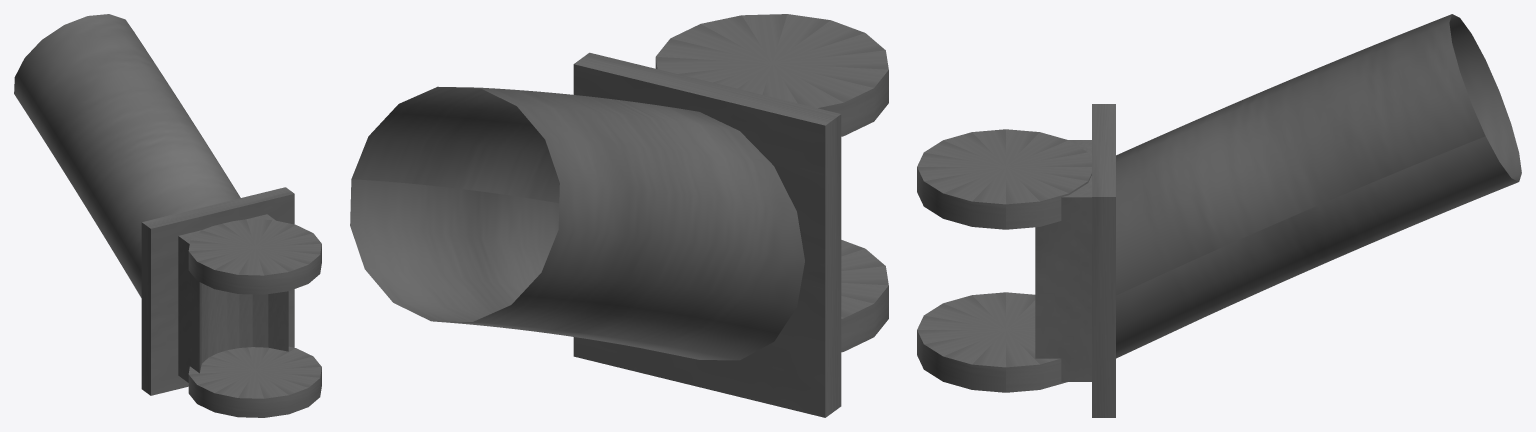
File: mastarmcurve_8x2_c0_thin.obj
3 views of the same model, side by side, from view 1: azimuth 30°, elevation 25°; view 2: azimuth 150°, elevation 25°; view 3: azimuth 270°, elevation 25° (orthographic). The views are drawn at different scales.
Visible parts, largest first — view 1: mastarm_8x2_c0_thin; view 2: mastarm_8x2_c0_thin; view 3: mastarm_8x2_c0_thin.
Boxes of the visible parts, x1,y1,x2,y2 form: mastarm_8x2_c0_thin: (14, 14, 321, 417); mastarm_8x2_c0_thin: (350, 14, 888, 417); mastarm_8x2_c0_thin: (917, 14, 1521, 417).
Size of the model in its own units: 0.6875 by 1.2 by 1.89.
